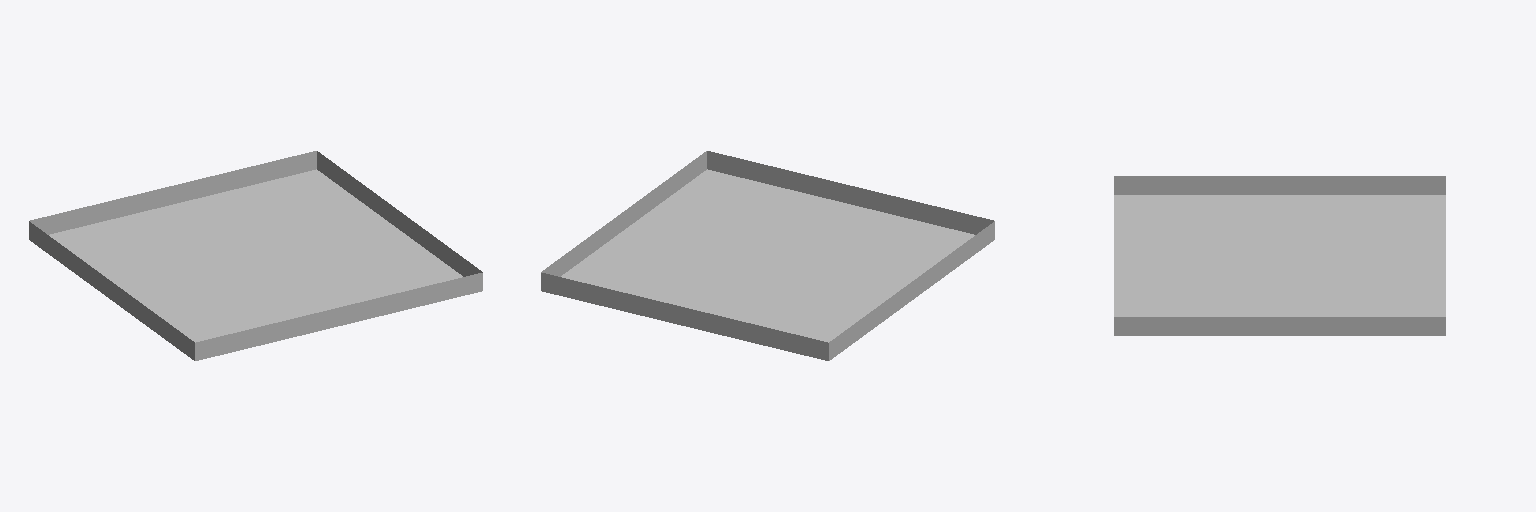
Rendered from testing_construct-01-visual.obj.
3 views of the same model, side by side, from view 1: azimuth 30°, elevation 25°; view 2: azimuth 150°, elevation 25°; view 3: azimuth 270°, elevation 25° (orthographic).
Parts seen in each view (by area): view 1: Plane.010, Plane.019_Plane.023, Plane.021_Plane.025, Plane.024_Plane.028, Plane.029_Plane.033, Plane.030_Plane.034, Plane.031_Plane.035, Plane.034_Plane.038, Plane.036_Plane.040, Plane.037_Plane.041, Plane.039_Plane.043, Plane.043_Plane.047 (+28 smaller); view 2: Plane.050_Plane.054, Plane.002, Plane.004, Plane.011_Plane.015, Plane.014_Plane.018, Plane.015_Plane.019, Plane.019_Plane.023, Plane.024_Plane.028, Plane.026_Plane.030, Plane.028_Plane.032, Plane.029_Plane.033, Plane.031_Plane.035 (+28 smaller); view 3: Plane.076_Plane.080, Plane.077_Plane.081, Plane.078_Plane.082, Plane.079_Plane.083, Plane.092_Plane.096, Plane.093_Plane.097, Plane.094_Plane.098, Plane.095_Plane.099, Plane.074_Plane.078, Plane.075_Plane.079, Plane.080_Plane.084, Plane.081_Plane.085 (+28 smaller).
Part boxes in pixels (x1,y1,x2,y2): Plane.010: (406,261,461,284); Plane.019_Plane.023: (329,239,383,262); Plane.021_Plane.025: (256,257,311,279); Plane.024_Plane.028: (169,298,224,321); Plane.029_Plane.033: (277,272,332,295); Plane.030_Plane.034: (220,266,276,288); Plane.031_Plane.035: (205,290,260,312); Plane.034_Plane.038: (344,215,398,238); Plane.036_Plane.040: (271,233,327,256); Plane.037_Plane.041: (215,226,270,249); Plane.039_Plane.043: (143,244,198,267); Plane.043_Plane.047: (308,224,362,247); Plane.050_Plane.054: (562,261,617,284); Plane.002: (686,169,742,192); Plane.004: (759,187,813,210); Plane.011_Plane.015: (723,178,777,201); Plane.014_Plane.018: (810,220,865,243); Plane.015_Plane.019: (866,213,922,236); Plane.019_Plane.023: (661,224,715,247); Plane.024_Plane.028: (861,253,916,275); Plane.026_Plane.030: (625,215,679,238); Plane.028_Plane.032: (696,233,752,256); Plane.029_Plane.033: (753,226,808,249); Plane.031_Plane.035: (825,244,880,267); Plane.076_Plane.080: (1238,317,1279,335); Plane.077_Plane.081: (1155,317,1196,335); Plane.078_Plane.082: (1363,317,1404,335); Plane.079_Plane.083: (1280,317,1321,335); Plane.092_Plane.096: (1280,176,1321,194); Plane.093_Plane.097: (1363,176,1404,194); Plane.094_Plane.098: (1155,176,1196,194); Plane.095_Plane.099: (1238,176,1279,194); Plane.074_Plane.078: (1405,317,1445,335); Plane.075_Plane.079: (1322,317,1362,335); Plane.080_Plane.084: (1197,317,1237,335); Plane.081_Plane.085: (1114,317,1154,335).
Size of the model in its own units: 16 by 1 by 16.